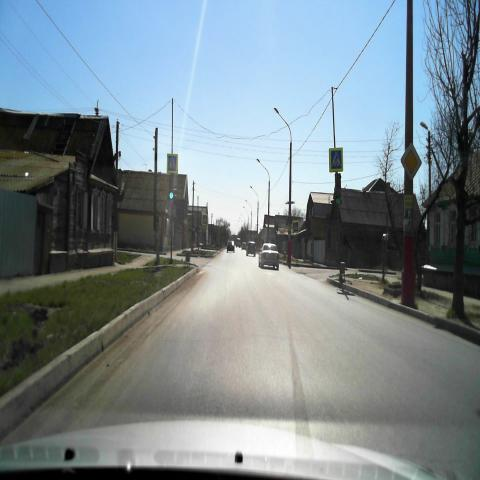2_1: (401, 142, 423, 182)
5_19_1: (329, 146, 343, 172), (167, 153, 179, 174), (292, 219, 300, 232), (202, 214, 208, 224)
